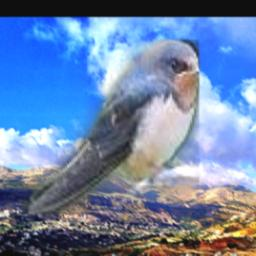Swallow: (23, 40, 200, 215)
